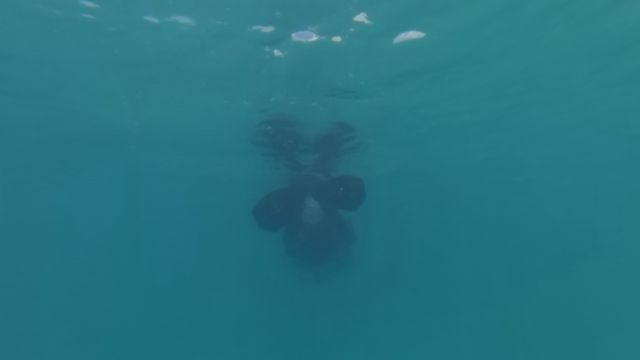Diver: (240, 161, 380, 276)
